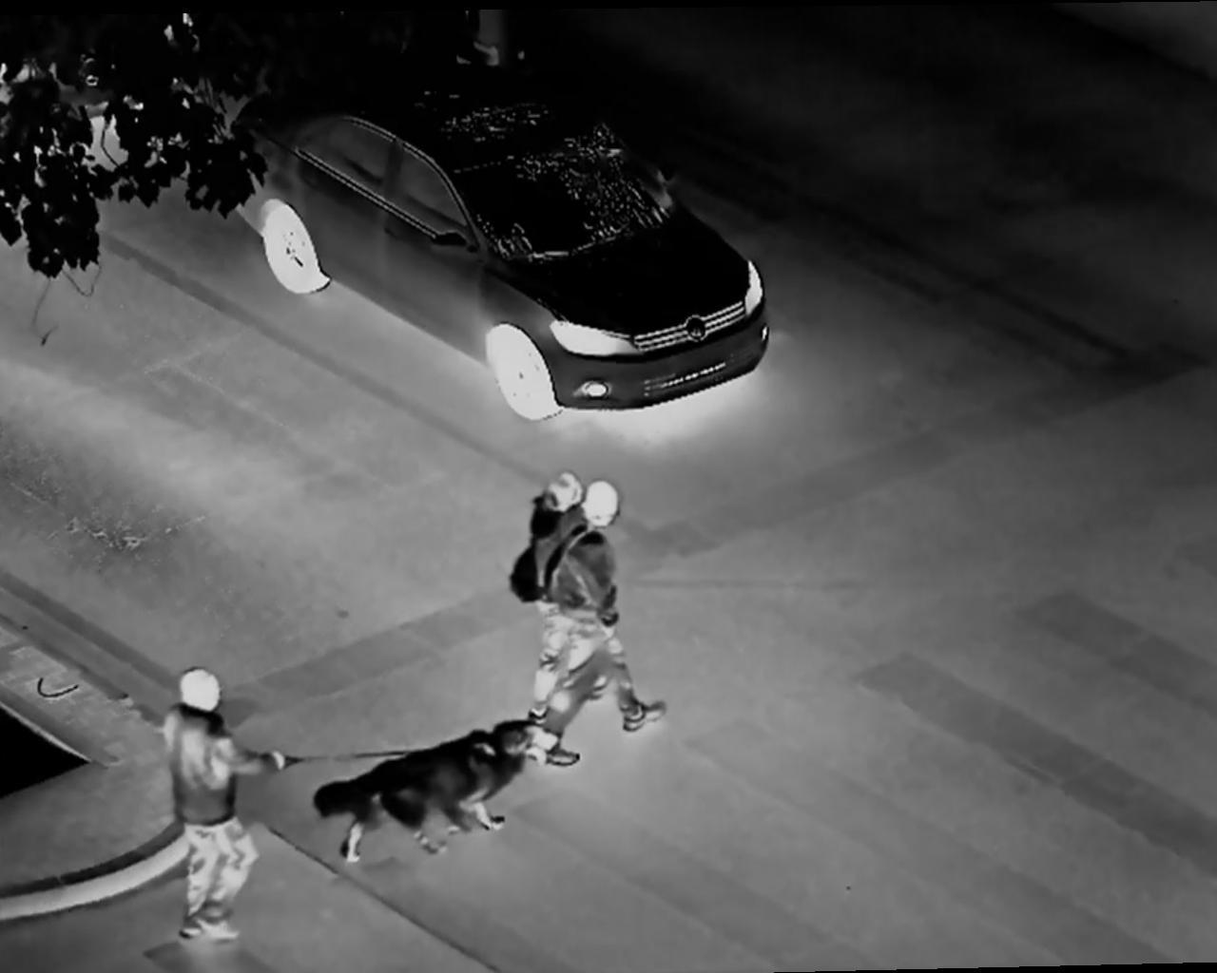person: (543, 480, 686, 764), (158, 666, 278, 957), (531, 467, 576, 586)
